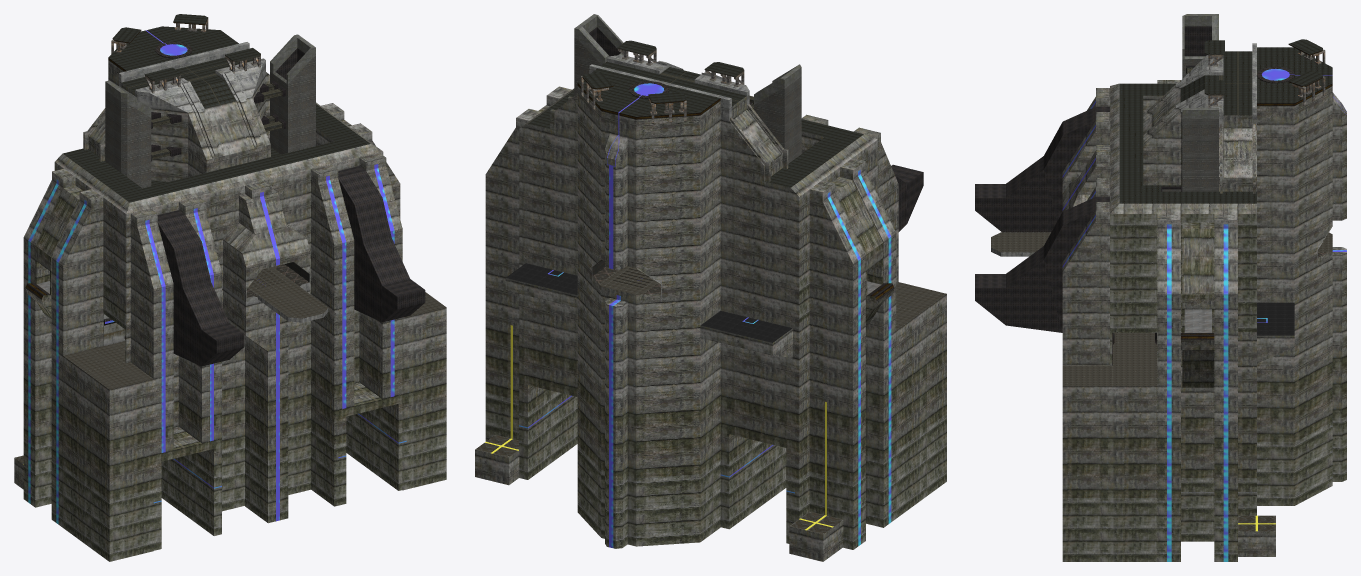
The model's file is Energybase.fbx.
3 views of the same model, side by side, from view 1: azimuth 30°, elevation 25°; view 2: azimuth 150°, elevation 25°; view 3: azimuth 270°, elevation 25° (orthographic). The views are drawn at different scales.
Parts seen in each view (by area): view 1: Object; view 2: Object; view 3: Object.
Part boxes in pixels (<box>): Object: <box>14,14,446,561</box>; Object: <box>475,14,946,561</box>; Object: <box>975,14,1346,561</box>.
Bounding box in the file's own units: 17800 × 19375 × 15700.
